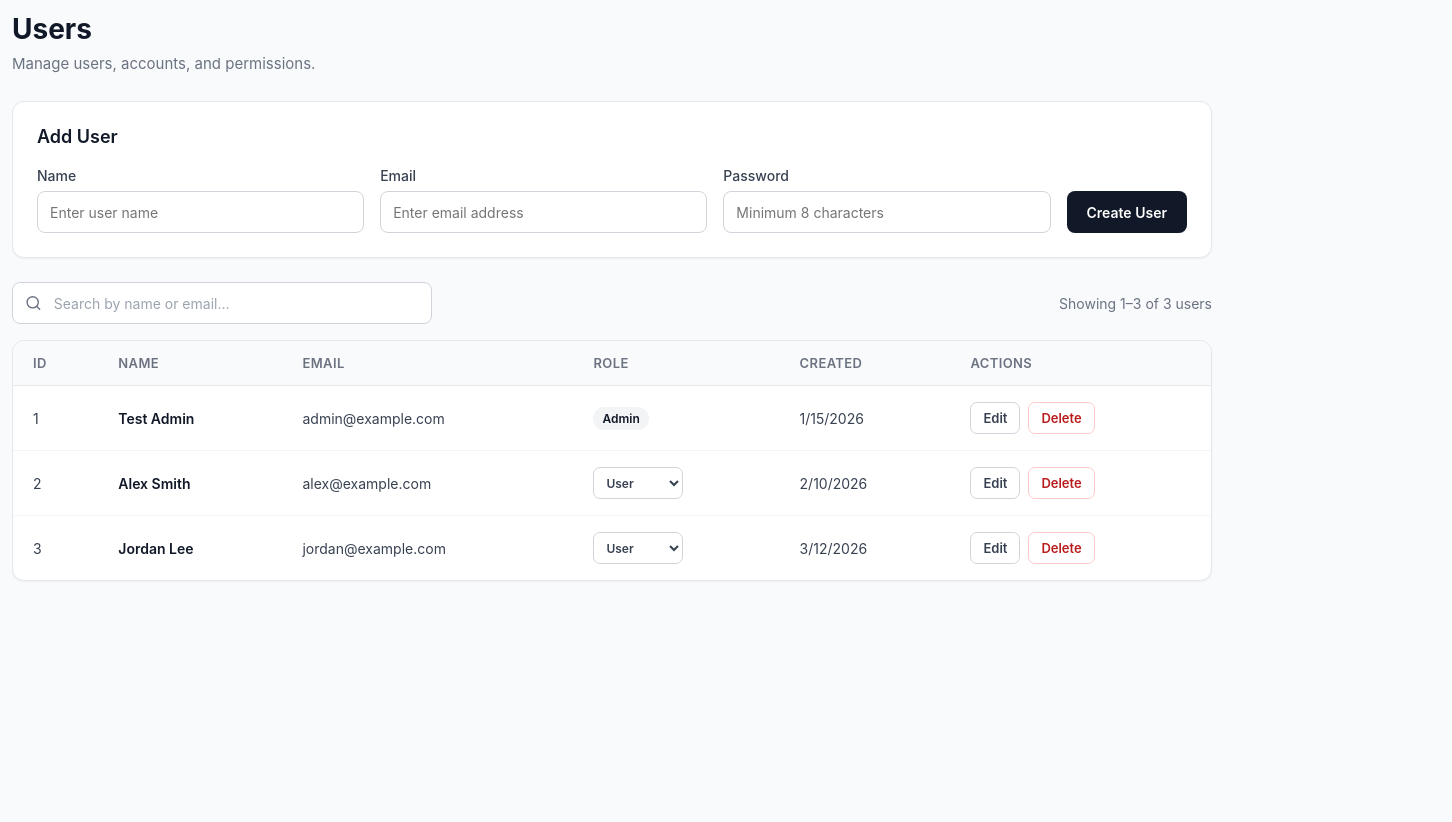
Test: Users page › creates a user and displays the result
Type "New Test User" into the field labelled "Name" at (201, 212), box [37,191,364,233]
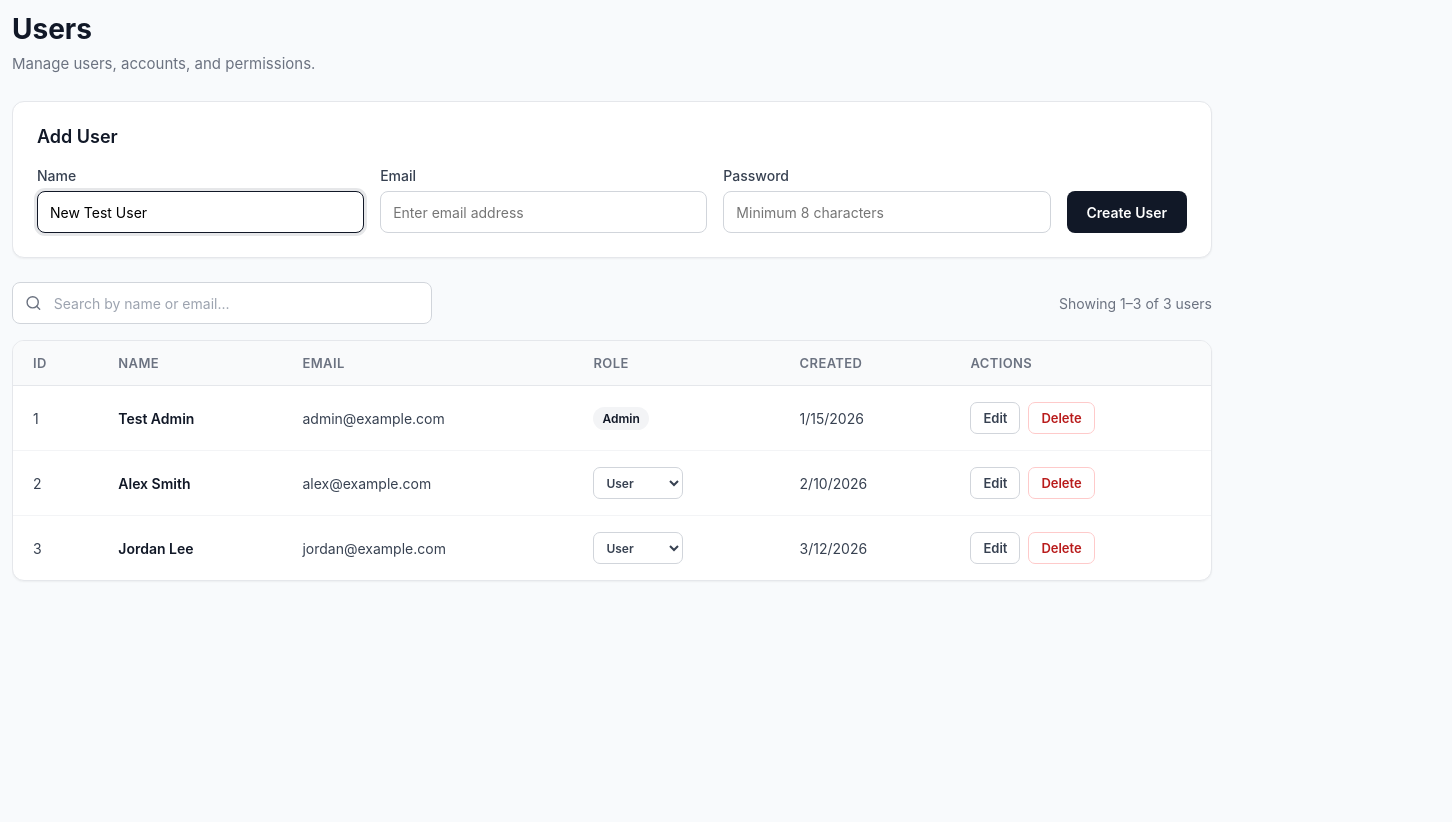
Type "new@example.com" into the field labelled "Email" at (544, 212), box [380,191,707,233]
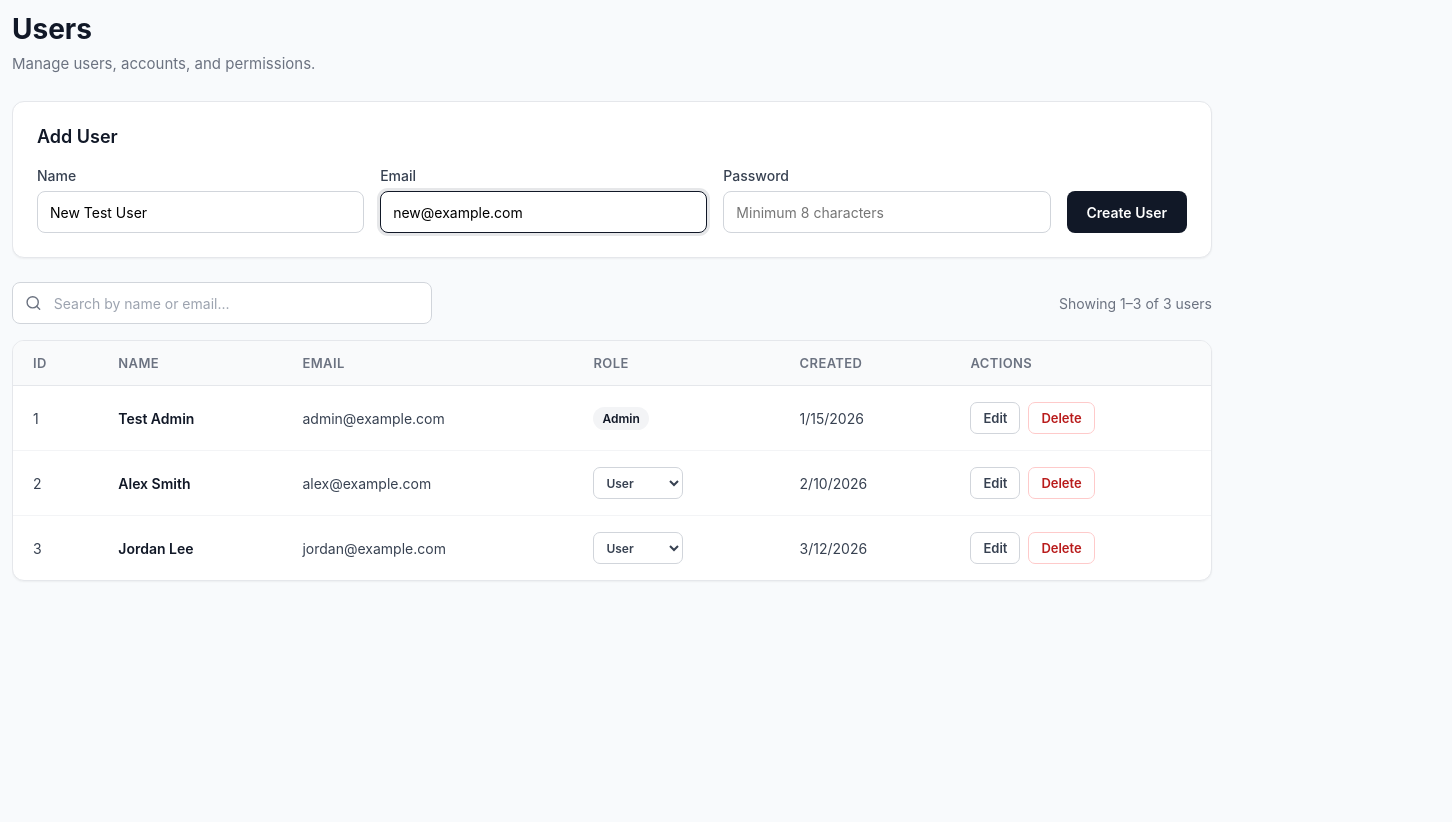
Type "SecurePass123!" into the password field labelled "Password" at (887, 212), box [723,191,1050,233]
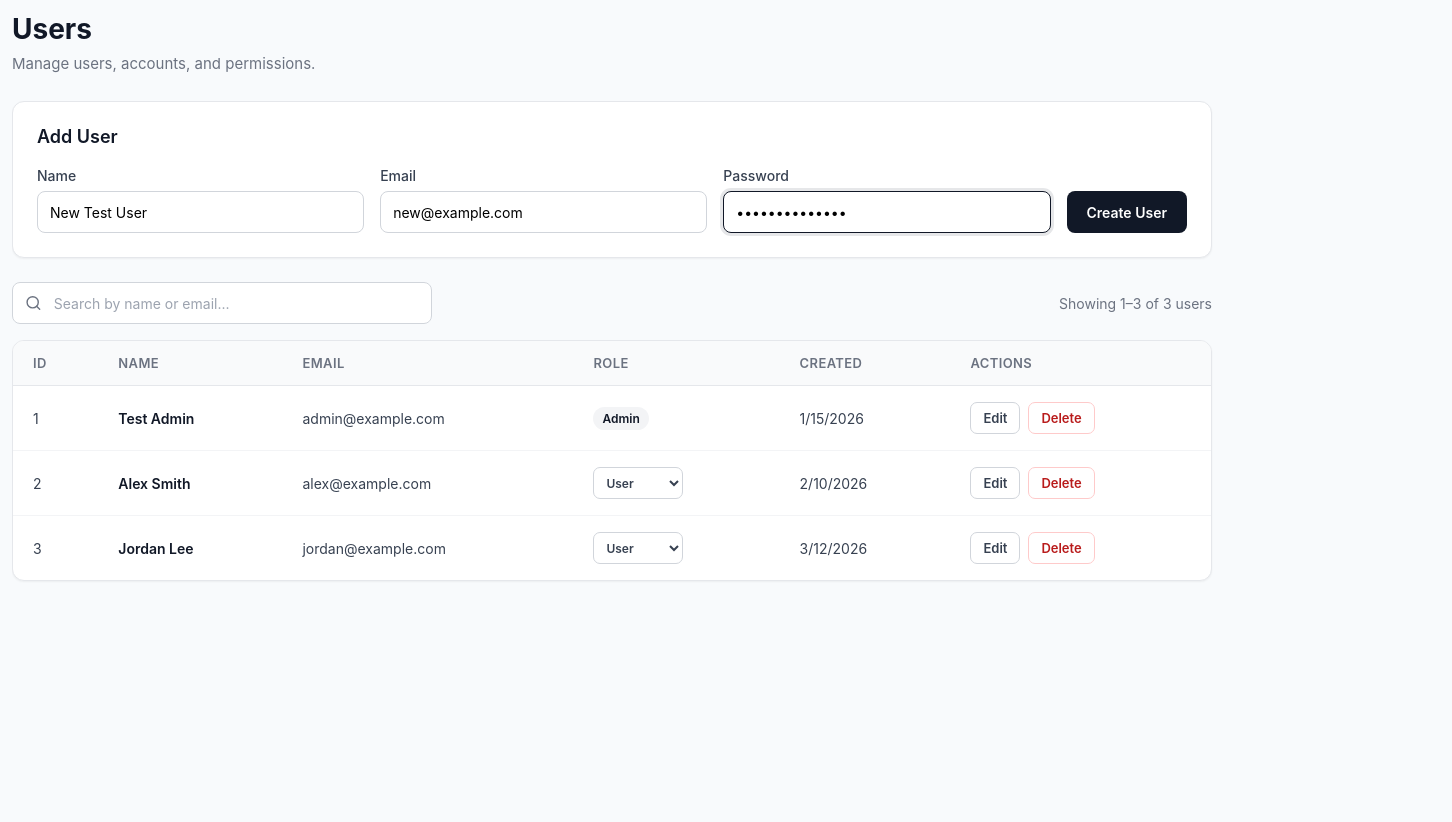
Click the button "Create User" at (1127, 212), box [1066,191,1187,233]
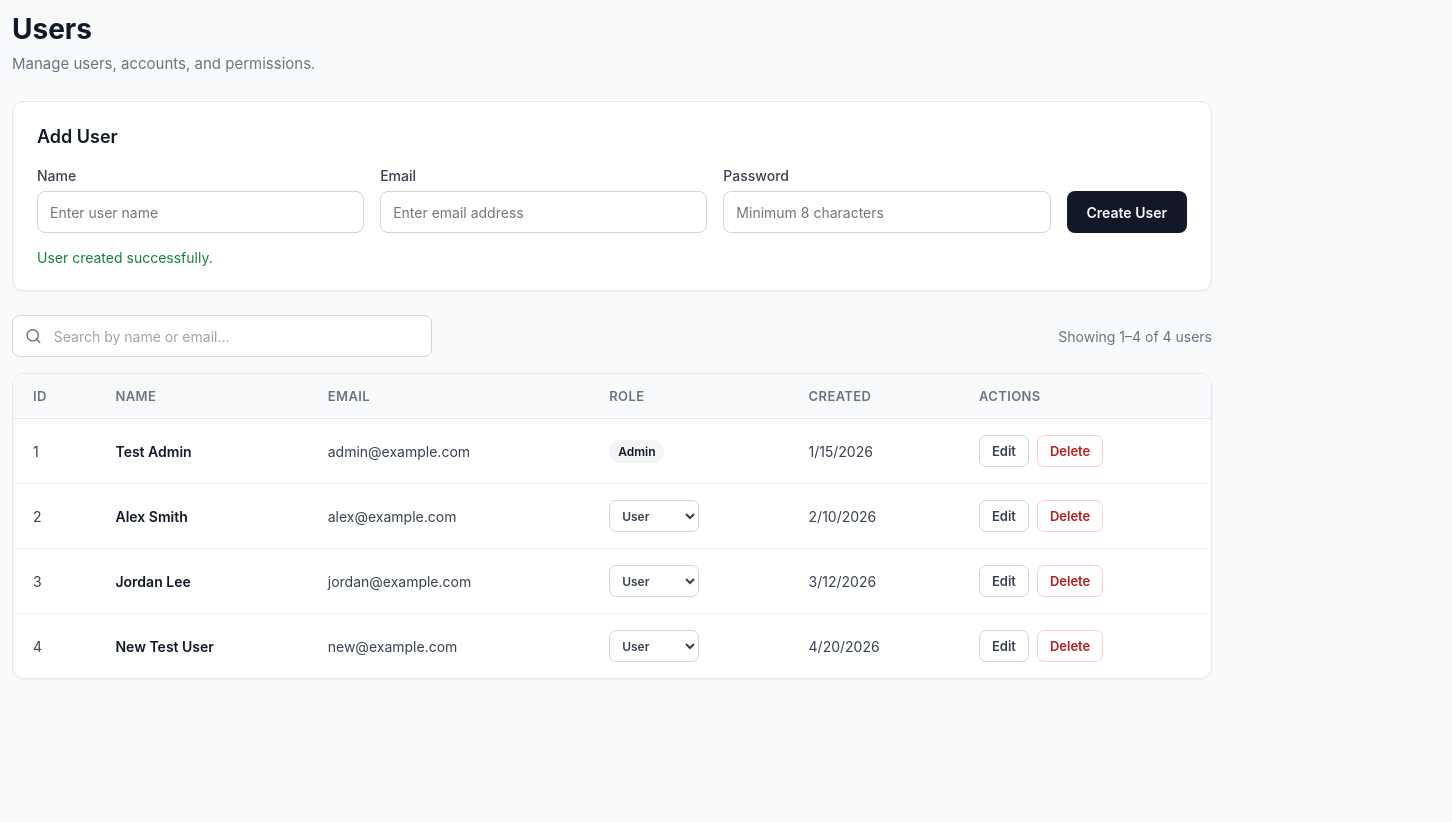
Result: the text "User created successfully." is shown at [37,249,213,266]
Result: the text "New Test User" is shown at [96,614,308,678]
